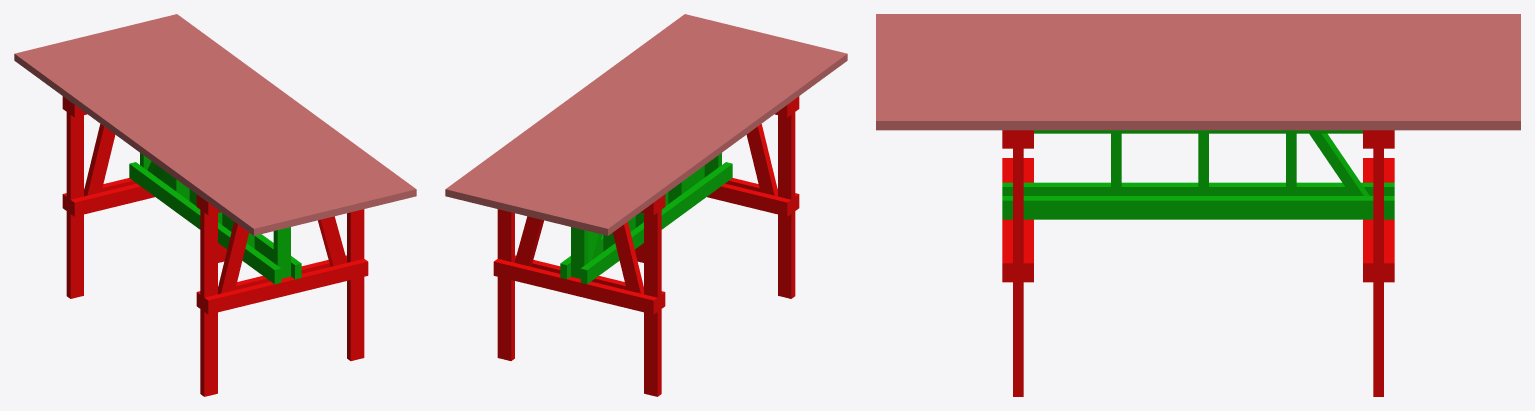
Rendered from result.glb.
The picture shows the model from 3 angles, left to right: view 1: azimuth 30°, elevation 25°; view 2: azimuth 150°, elevation 25°; view 3: azimuth 270°, elevation 25°; orthographic projection. The views are drawn at different scales.
Parts seen in each view (by area): view 1: 296a4d50-d9d7-4087-8cbb-6bb5c78bb11c__Box, 91a1d6b0-08b8-4247-84ac-59fcb80d405c__undefined, dbdbc542-4a20-47d9-8d2f-83ef57065aab__undefined, 76921b63-9369-4005-9770-d321c759f9e8__undefined, 929f3979-a3a1-4487-aa58-3a722a49ab28__undefined, 6aef7d42-b26c-45d5-b2d6-bb7bc869263f__undefined, 611df40f-dccb-48cf-9724-da8fae298ea2__undefined, 0a9cd118-85f7-4075-b2eb-e7fb969f2196__undefined, c8b8813e-e31c-46f8-8945-72189d216e3a__undefined, 28f5c5d2-9eca-4b0e-bc14-d0ae92513ca3__undefined, ad3ce9bf-22d5-4b71-9edf-7282eabfadd4__undefined, 88d3c31b-ae7a-4090-ab09-eaeefb173333__undefined (+12 smaller); view 2: 296a4d50-d9d7-4087-8cbb-6bb5c78bb11c__Box, 91a1d6b0-08b8-4247-84ac-59fcb80d405c__undefined, dbdbc542-4a20-47d9-8d2f-83ef57065aab__undefined, 76921b63-9369-4005-9770-d321c759f9e8__undefined, 929f3979-a3a1-4487-aa58-3a722a49ab28__undefined, 6aef7d42-b26c-45d5-b2d6-bb7bc869263f__undefined, 611df40f-dccb-48cf-9724-da8fae298ea2__undefined, 0a9cd118-85f7-4075-b2eb-e7fb969f2196__undefined, c8b8813e-e31c-46f8-8945-72189d216e3a__undefined, 28f5c5d2-9eca-4b0e-bc14-d0ae92513ca3__undefined, ad3ce9bf-22d5-4b71-9edf-7282eabfadd4__undefined, 88d3c31b-ae7a-4090-ab09-eaeefb173333__undefined (+12 smaller); view 3: c8b8813e-e31c-46f8-8945-72189d216e3a__undefined, a40d8461-0d08-4aa8-857b-1ceb96f644b3__strutH, ad3ce9bf-22d5-4b71-9edf-7282eabfadd4__undefined, 611df40f-dccb-48cf-9724-da8fae298ea2__undefined, 929f3979-a3a1-4487-aa58-3a722a49ab28__undefined, dbdbc542-4a20-47d9-8d2f-83ef57065aab__undefined, 0a9cd118-85f7-4075-b2eb-e7fb969f2196__undefined, 91a1d6b0-08b8-4247-84ac-59fcb80d405c__undefined, 88d3c31b-ae7a-4090-ab09-eaeefb173333__undefined, 296a4d50-d9d7-4087-8cbb-6bb5c78bb11c__Box, 76921b63-9369-4005-9770-d321c759f9e8__undefined, 28f5c5d2-9eca-4b0e-bc14-d0ae92513ca3__undefined (+13 smaller).
Part boxes in pixels (x1,y1,x2,y2): 296a4d50-d9d7-4087-8cbb-6bb5c78bb11c__Box: [14, 50, 267, 235]; 91a1d6b0-08b8-4247-84ac-59fcb80d405c__undefined: [109, 27, 362, 212]; dbdbc542-4a20-47d9-8d2f-83ef57065aab__undefined: [82, 34, 335, 219]; 76921b63-9369-4005-9770-d321c759f9e8__undefined: [28, 47, 280, 232]; 929f3979-a3a1-4487-aa58-3a722a49ab28__undefined: [69, 37, 321, 222]; 6aef7d42-b26c-45d5-b2d6-bb7bc869263f__undefined: [150, 17, 402, 202]; 611df40f-dccb-48cf-9724-da8fae298ea2__undefined: [55, 40, 307, 225]; 0a9cd118-85f7-4075-b2eb-e7fb969f2196__undefined: [96, 30, 348, 215]; c8b8813e-e31c-46f8-8945-72189d216e3a__undefined: [164, 14, 416, 199]; 28f5c5d2-9eca-4b0e-bc14-d0ae92513ca3__undefined: [137, 20, 389, 205]; ad3ce9bf-22d5-4b71-9edf-7282eabfadd4__undefined: [42, 44, 294, 229]; 88d3c31b-ae7a-4090-ab09-eaeefb173333__undefined: [123, 24, 375, 209]; 296a4d50-d9d7-4087-8cbb-6bb5c78bb11c__Box: [594, 50, 847, 235]; 91a1d6b0-08b8-4247-84ac-59fcb80d405c__undefined: [499, 27, 752, 212]; dbdbc542-4a20-47d9-8d2f-83ef57065aab__undefined: [526, 34, 779, 219]; 76921b63-9369-4005-9770-d321c759f9e8__undefined: [581, 47, 833, 232]; 929f3979-a3a1-4487-aa58-3a722a49ab28__undefined: [540, 37, 792, 222]; 6aef7d42-b26c-45d5-b2d6-bb7bc869263f__undefined: [459, 17, 711, 202]; 611df40f-dccb-48cf-9724-da8fae298ea2__undefined: [554, 40, 806, 225]; 0a9cd118-85f7-4075-b2eb-e7fb969f2196__undefined: [513, 30, 765, 215]; c8b8813e-e31c-46f8-8945-72189d216e3a__undefined: [445, 14, 697, 199]; 28f5c5d2-9eca-4b0e-bc14-d0ae92513ca3__undefined: [472, 20, 724, 205]; ad3ce9bf-22d5-4b71-9edf-7282eabfadd4__undefined: [567, 44, 819, 229]; 88d3c31b-ae7a-4090-ab09-eaeefb173333__undefined: [486, 24, 738, 209]; c8b8813e-e31c-46f8-8945-72189d216e3a__undefined: [876, 112, 1520, 130]; a40d8461-0d08-4aa8-857b-1ceb96f644b3__strutH: [1002, 196, 1394, 219]; ad3ce9bf-22d5-4b71-9edf-7282eabfadd4__undefined: [876, 31, 1520, 40]; 611df40f-dccb-48cf-9724-da8fae298ea2__undefined: [876, 40, 1520, 49]; 929f3979-a3a1-4487-aa58-3a722a49ab28__undefined: [876, 49, 1520, 58]; dbdbc542-4a20-47d9-8d2f-83ef57065aab__undefined: [876, 58, 1520, 67]; 0a9cd118-85f7-4075-b2eb-e7fb969f2196__undefined: [876, 67, 1520, 76]; 91a1d6b0-08b8-4247-84ac-59fcb80d405c__undefined: [876, 76, 1520, 85]; 88d3c31b-ae7a-4090-ab09-eaeefb173333__undefined: [876, 85, 1520, 94]; 296a4d50-d9d7-4087-8cbb-6bb5c78bb11c__Box: [876, 14, 1520, 22]; 76921b63-9369-4005-9770-d321c759f9e8__undefined: [876, 23, 1520, 31]; 28f5c5d2-9eca-4b0e-bc14-d0ae92513ca3__undefined: [876, 94, 1520, 102].
Bounding box in the file's own units: 600 × 725 × 1530.
